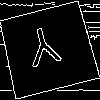Y: (23, 24, 65, 77)
